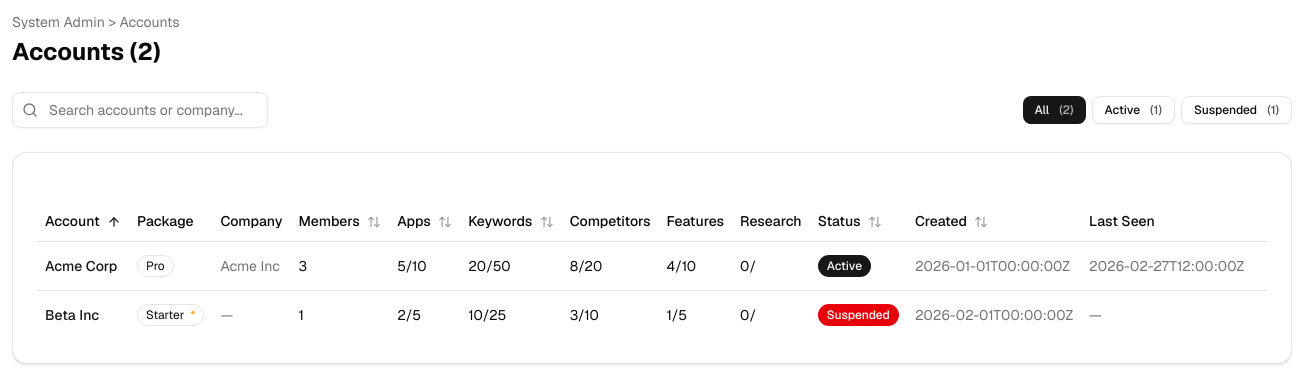
Test case: AccountsListPage › searches by account name
The width and height of the screenshot is (1304, 382).
Expected: the link "Acme Corp" is shown, 45,256 -> 117,274
Step 1. Type "beta" into the field with placeholder "Search accounts or company..." → (140, 110), box 12,92 -> 268,128
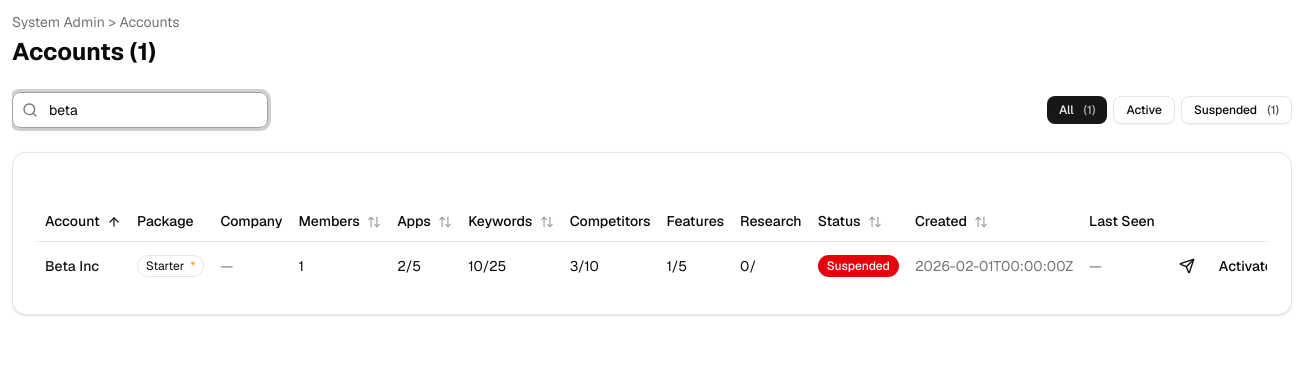
Expected: the link "Beta Inc" is shown, 45,256 -> 99,274
Now the link "Acme Corp" is gone
